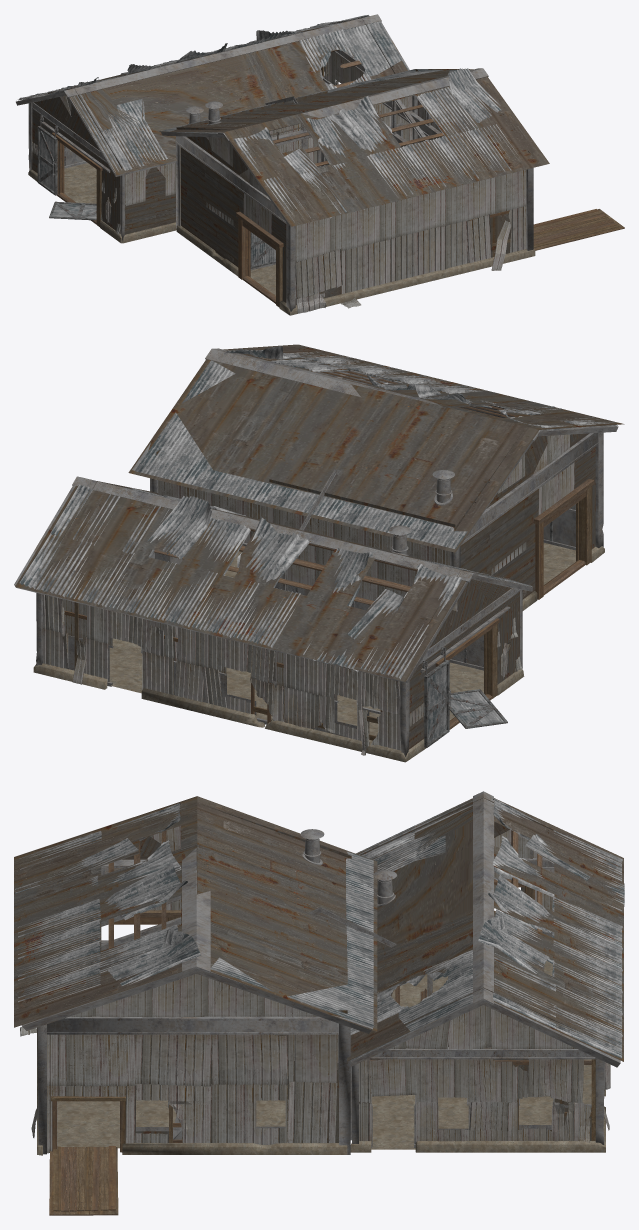
File: SlgHouse.fbx
3 renders of one model, top to bottom at view 1: azimuth 30°, elevation 25°; view 2: azimuth 150°, elevation 25°; view 3: azimuth 270°, elevation 25°, orthographic. The views are drawn at different scales.
Visible parts, largest first — view 1: SM_Slaughterhouse01_ShadowCaster_01.mo, SM_SlgHouseSmall_Roof_01.mo, SM_SltHouseSmall_Walls.mo, SM_SltHouseSmall_Structures.mo, SM_SltHouse_DoorFrames.mo, SM_SltHouseSmall_BigFrontDoor.mo, SM_SltHouseSmall_InteriorWall.mo, SM_SlgHouse_PoutreExt.mo, SM_SlgHouse_BasementCover.mo, SM_SlgHouse_Ground.mo, SM_SlgHouse_Room01.mo; view 2: SM_Slaughterhouse01_ShadowCaster_01.mo, SM_SlgHouseSmall_Roof_01.mo, SM_SltHouseSmall_Walls.mo, SM_SltHouseSmall_Structures.mo, SM_SltHouseSmall_InteriorWall.mo, SM_SlgHouse_Ground.mo, SM_SltHouse_DoorFrames.mo, SM_SltHouseSmall_BigFrontDoor.mo, SM_SlgHouse_PoutreExt.mo; view 3: SM_Slaughterhouse01_ShadowCaster_01.mo, SM_SlgHouseSmall_Roof_01.mo, SM_SltHouseSmall_Walls.mo, SM_SltHouseSmall_Structures.mo, SM_SlgHouse_Ground.mo, SM_SlgHouse_BasementCover.mo, SM_SlgHouse_PoutreExt.mo, SM_SltHouse_DoorFrames.mo, SM_SltHouseSmall_InteriorWall.mo, SM_SlgHouse_ArcSmall.mo.
Part boxes in pixels (x1,y1,x2,y2): SM_Slaughterhouse01_ShadowCaster_01.mo: [18, 18, 549, 305]; SM_SlgHouseSmall_Roof_01.mo: [16, 14, 517, 225]; SM_SltHouseSmall_Walls.mo: [32, 65, 526, 313]; SM_SltHouseSmall_Structures.mo: [28, 50, 535, 315]; SM_SltHouse_DoorFrames.mo: [52, 123, 402, 307]; SM_SltHouseSmall_BigFrontDoor.mo: [37, 115, 275, 268]; SM_SltHouseSmall_InteriorWall.mo: [64, 51, 441, 225]; SM_SlgHouse_PoutreExt.mo: [28, 68, 533, 311]; SM_SlgHouse_BasementCover.mo: [533, 209, 624, 250]; SM_SlgHouse_Ground.mo: [64, 163, 275, 295]; SM_SlgHouse_Room01.mo: [250, 130, 329, 270]; SM_Slaughterhouse01_ShadowCaster_01.mo: [15, 344, 624, 749]; SM_SlgHouseSmall_Roof_01.mo: [14, 346, 618, 683]; SM_SltHouseSmall_Walls.mo: [42, 434, 574, 755]; SM_SltHouseSmall_Structures.mo: [33, 370, 604, 762]; SM_SltHouseSmall_InteriorWall.mo: [62, 504, 575, 736]; SM_SlgHouse_Ground.mo: [109, 543, 575, 743]; SM_SltHouse_DoorFrames.mo: [167, 479, 594, 729]; SM_SltHouseSmall_BigFrontDoor.mo: [420, 606, 510, 747]; SM_SlgHouse_PoutreExt.mo: [36, 432, 603, 756]; SM_Slaughterhouse01_ShadowCaster_01.mo: [14, 796, 623, 1142]; SM_SlgHouseSmall_Roof_01.mo: [15, 791, 624, 1067]; SM_SltHouseSmall_Walls.mo: [20, 826, 610, 1153]; SM_SltHouseSmall_Structures.mo: [37, 830, 605, 1155]; SM_SlgHouse_Ground.mo: [57, 961, 591, 1149]; SM_SlgHouse_BasementCover.mo: [49, 1146, 118, 1215]; SM_SlgHouse_PoutreExt.mo: [37, 1023, 604, 1154]; SM_SltHouse_DoorFrames.mo: [51, 879, 534, 1152]; SM_SltHouseSmall_InteriorWall.mo: [136, 869, 591, 1147]; SM_SlgHouse_ArcSmall.mo: [309, 907, 432, 996].
Size of the model in its own units: 2934 by 1025 by 2721.
